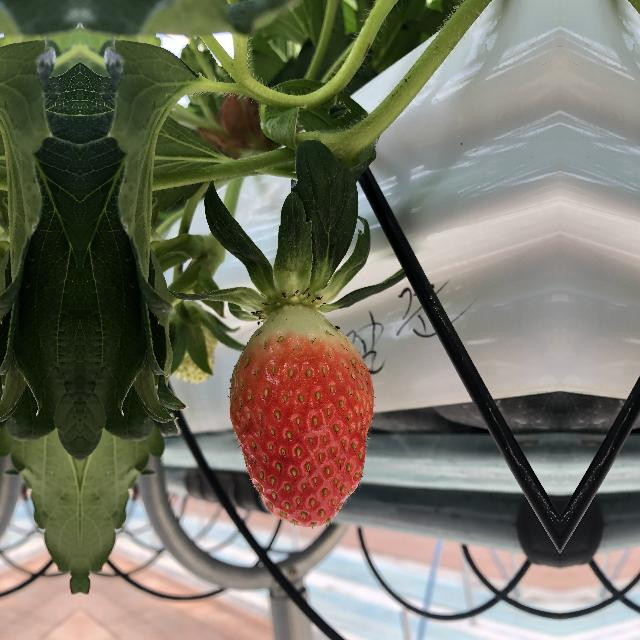Health_100: (216, 300, 380, 530)
